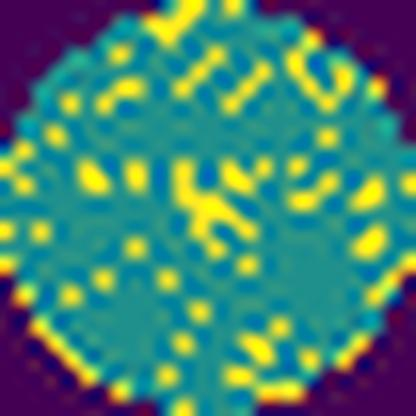Center: (162, 154, 264, 262)
